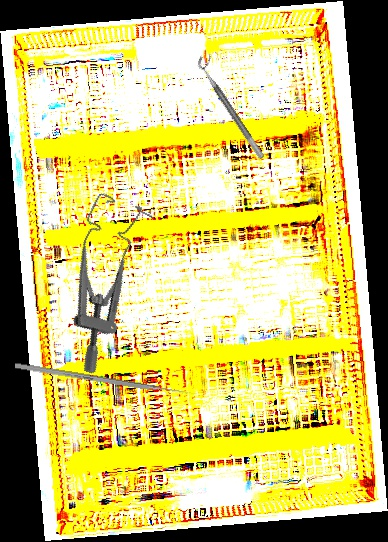Fixation Ring: (193, 50, 274, 161)
Pusher: (14, 362, 198, 398)
Speculum: (28, 188, 168, 376)
